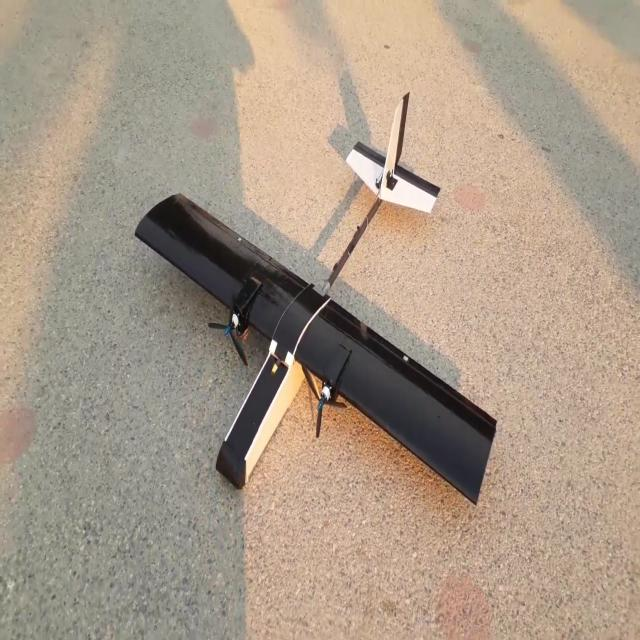iha: (144, 96, 497, 514)
